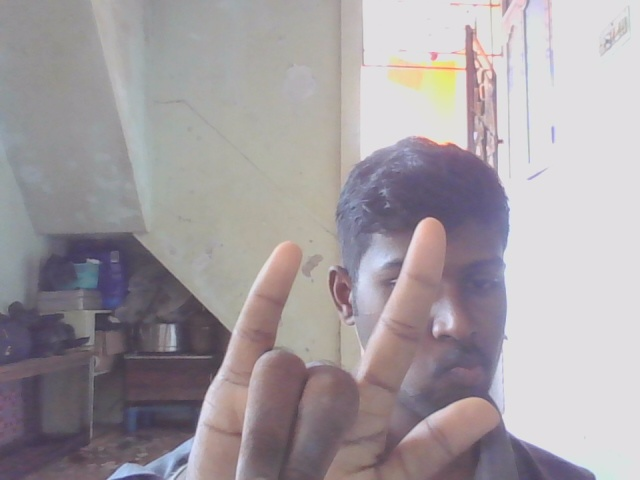I Love You: (176, 210, 510, 480)
